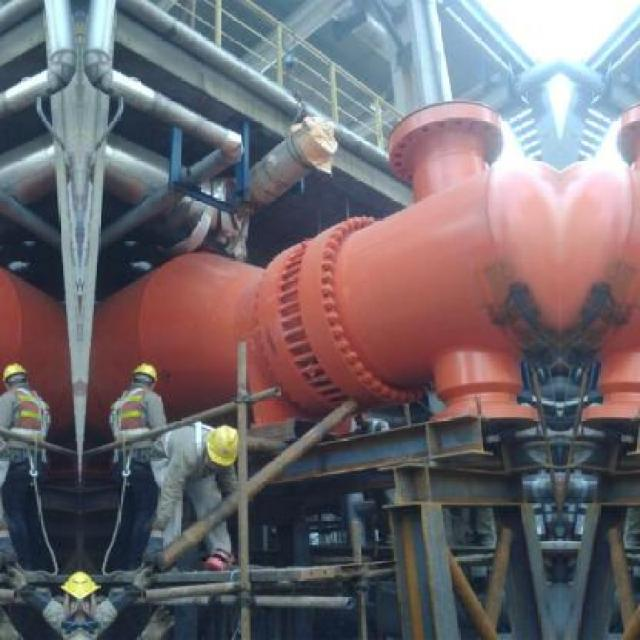helmet: (206, 420, 240, 469), (0, 360, 31, 400), (79, 566, 99, 625), (58, 566, 78, 625), (128, 361, 158, 399)
